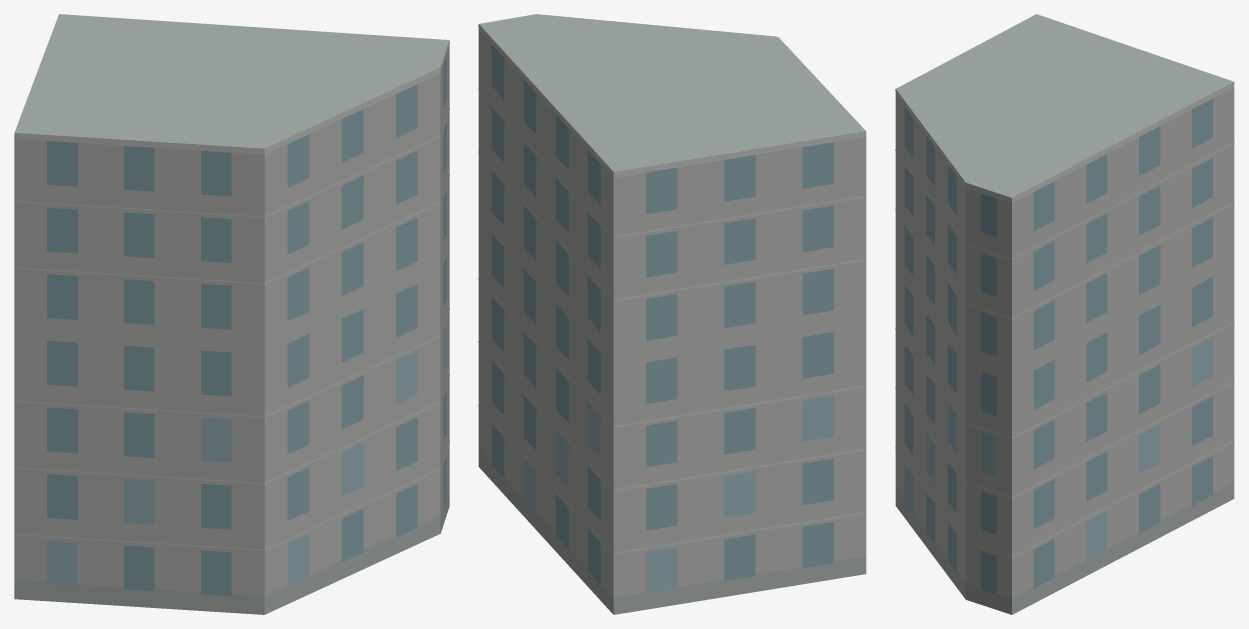
File: survey-upis-32561308.glb
3 views of the same model, side by side, from view 1: azimuth 30°, elevation 25°; view 2: azimuth 150°, elevation 25°; view 3: azimuth 270°, elevation 25° (orthographic). The views are drawn at different scales.
Parts seen in each view (by area): view 1: survey-upis-32561308.tmp; view 2: survey-upis-32561308.tmp; view 3: survey-upis-32561308.tmp.
Boxes of the visible parts, bbox=[...] form: survey-upis-32561308.tmp: bbox=[14, 14, 449, 614]; survey-upis-32561308.tmp: bbox=[478, 14, 866, 614]; survey-upis-32561308.tmp: bbox=[895, 14, 1234, 614].
Size of the model in its own units: 17.43 by 18.4 by 13.56.
